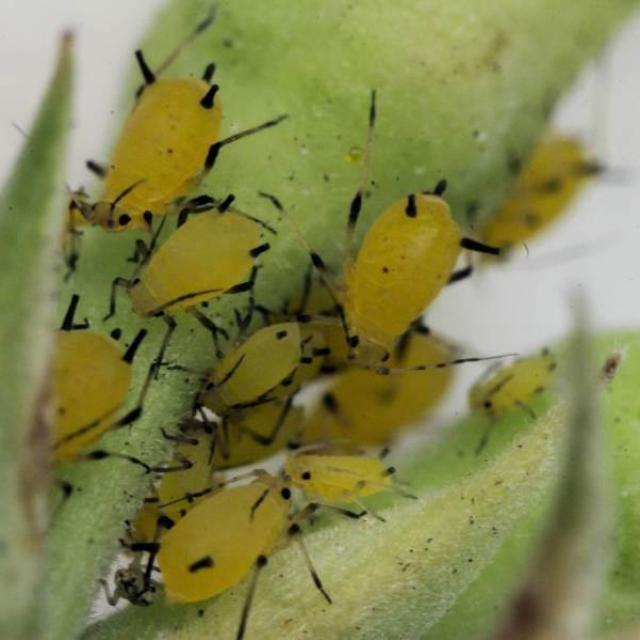Aphids: (324, 148, 497, 370), (133, 484, 356, 640), (86, 58, 265, 231), (114, 202, 285, 372), (190, 324, 315, 428)
